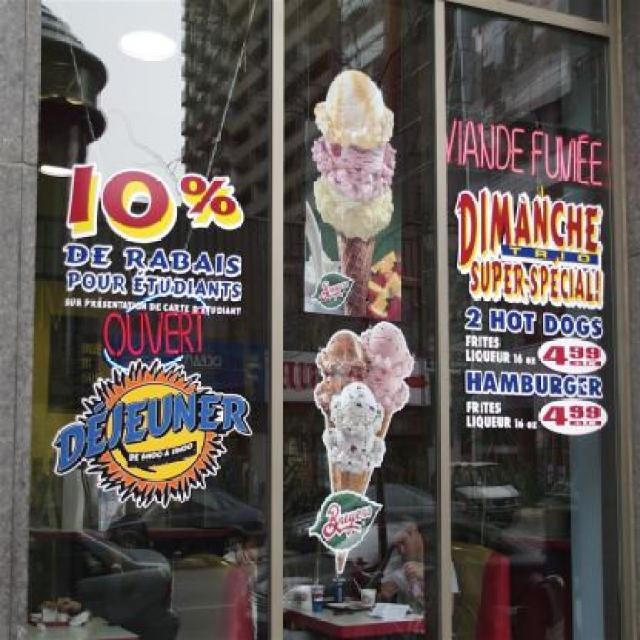Ice cream: (310, 68, 396, 322), (320, 382, 386, 570), (364, 328, 416, 434), (316, 330, 364, 432)
